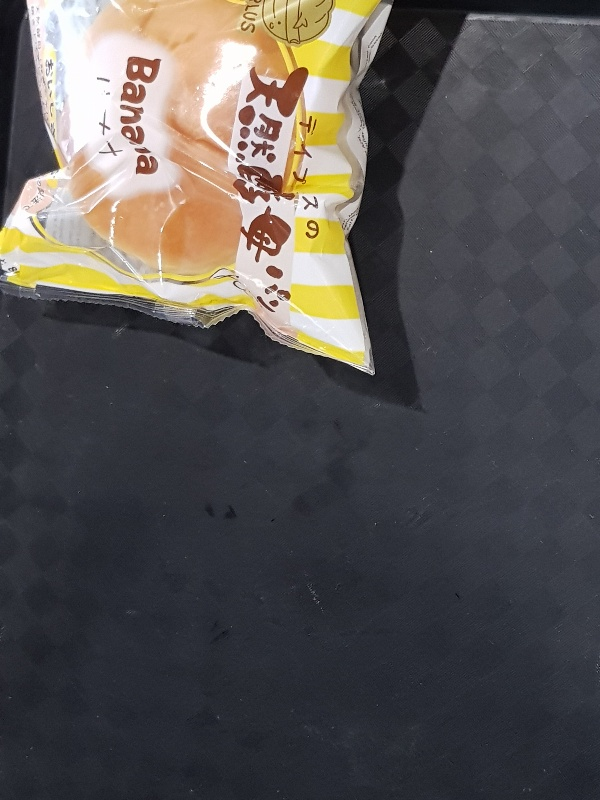Dayplus Banana: (1, 1, 395, 374)
